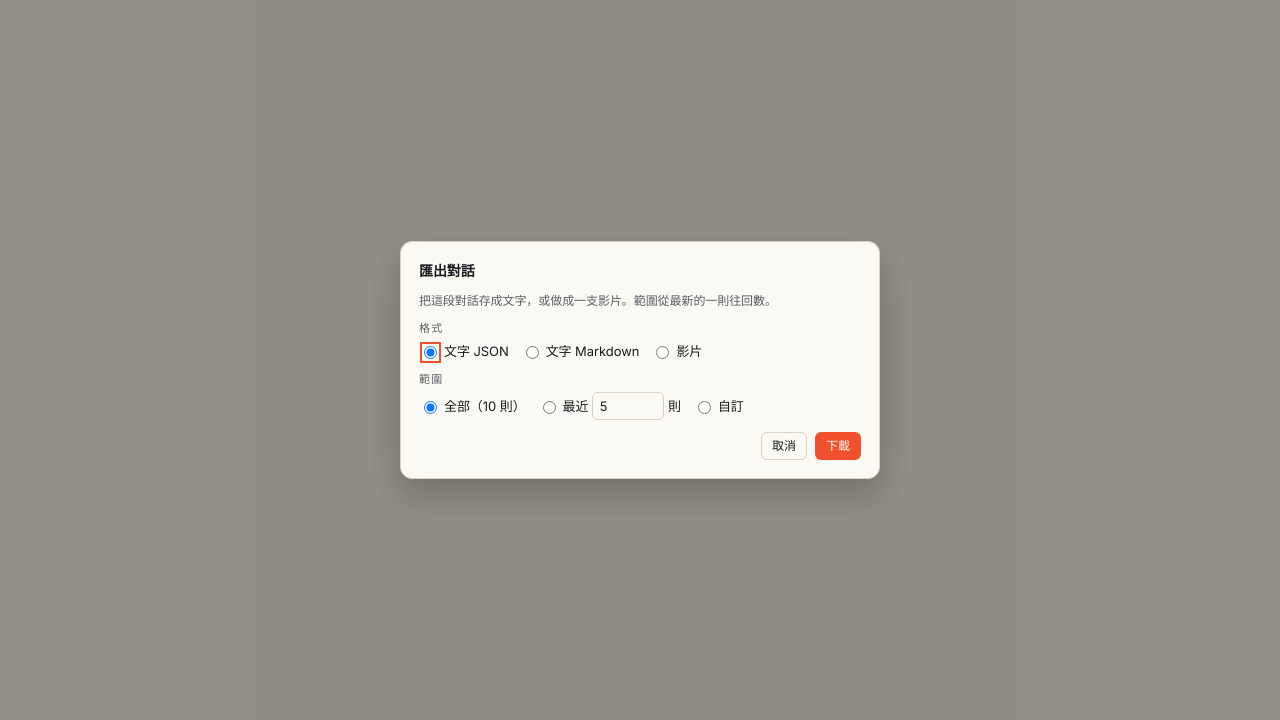
ExportDialog — video › coming back to resolution mode lands on 720p, the stop the dialog opens on
Expected: the text "全部（10 則）" is shown, [419, 396, 526, 416]
Click the radio button with test id "export-kind-video": (663, 352) [656, 346, 669, 359]
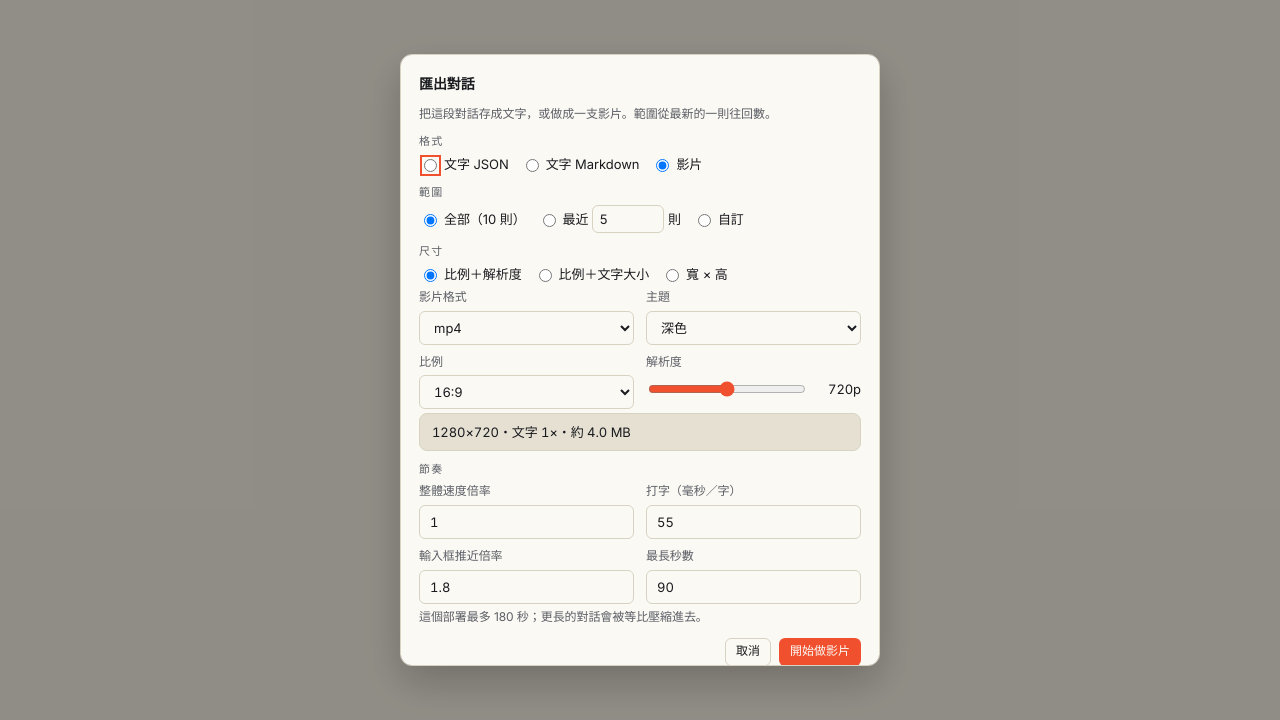
Now the text "1280×720・文字 1×・約 4.0 MB" is shown, box [419, 413, 861, 451]
Click the radio button with test id "export-size-mode-text": (545, 276) [539, 269, 552, 282]
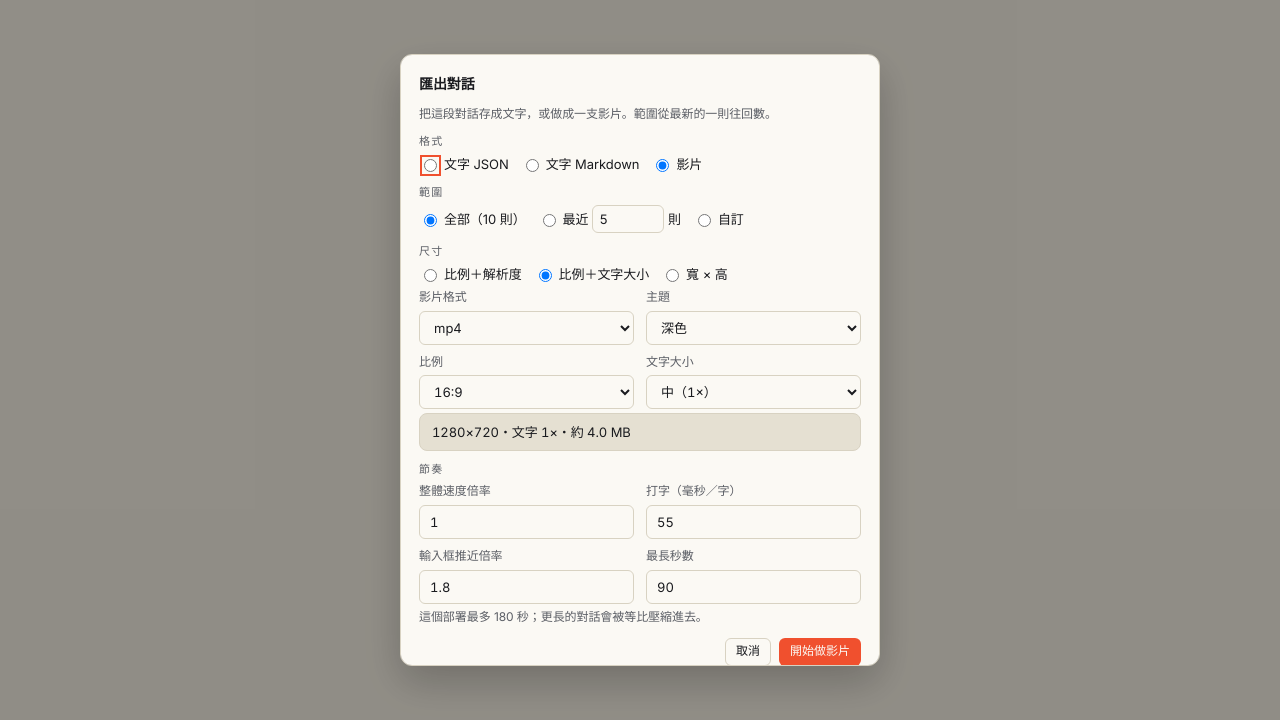
Click the radio button with test id "export-size-mode-resolution": (430, 276) [424, 269, 437, 282]
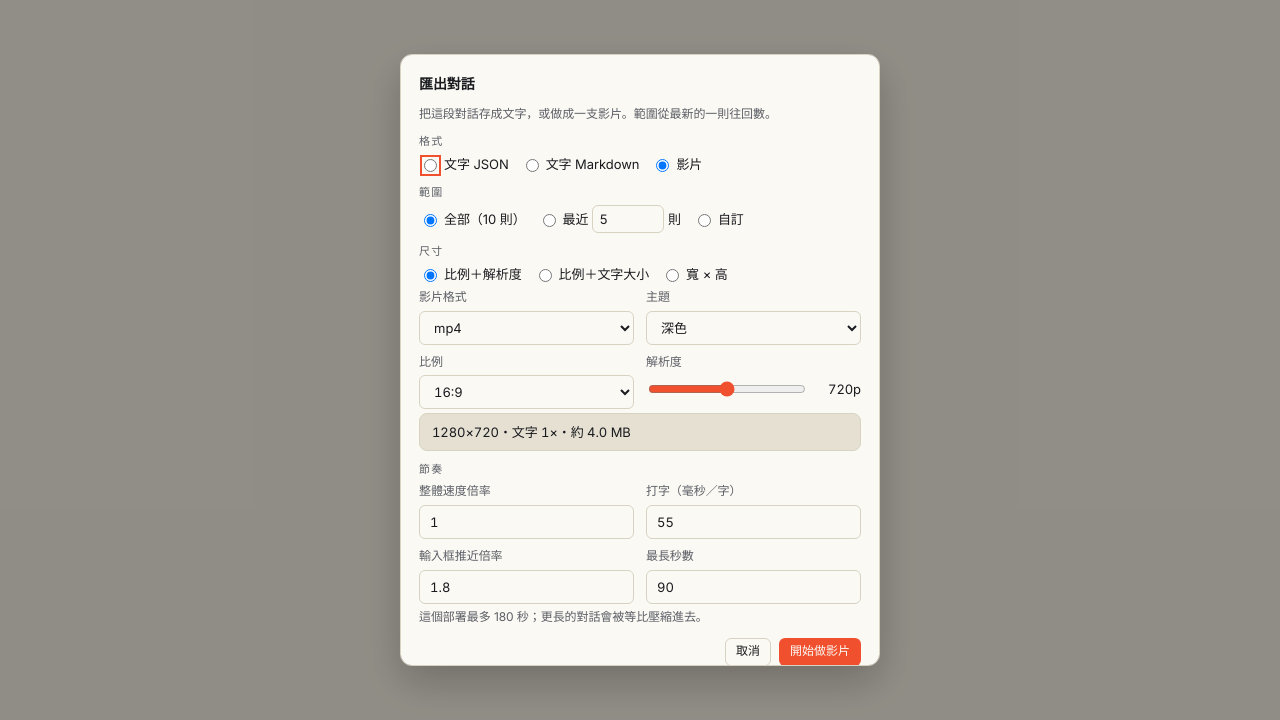
Now the text with test id "export-resolution-label" reads "720p", box [828, 381, 861, 397]
